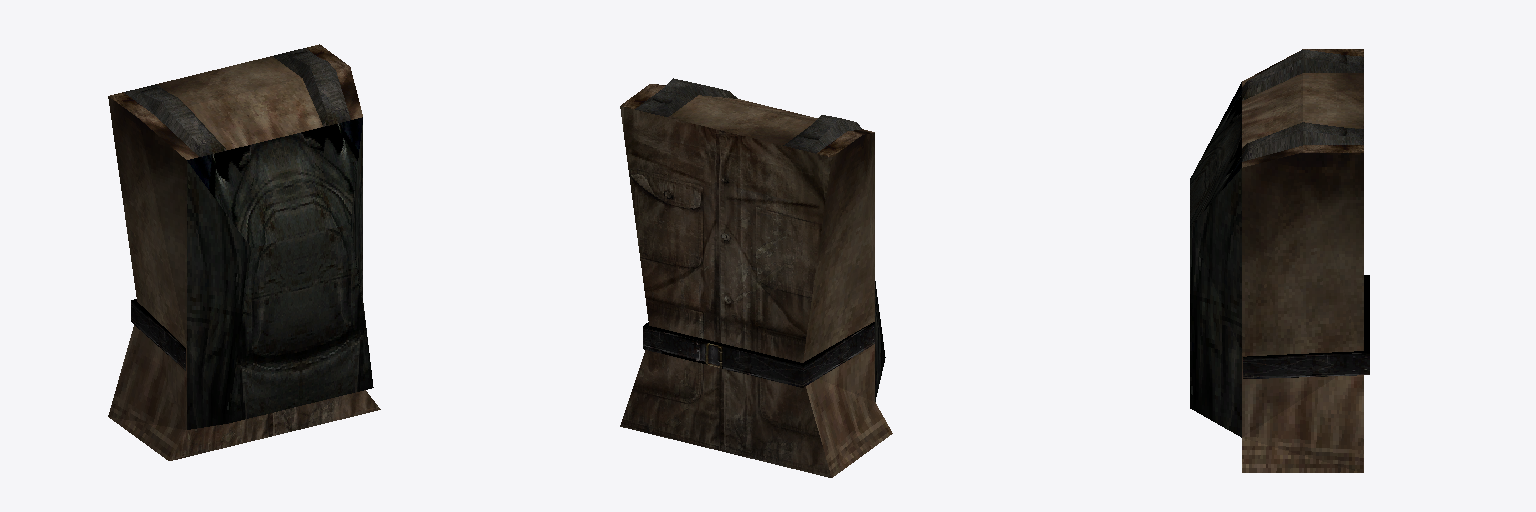
The picture shows the model from 3 angles: view 1: azimuth 30°, elevation 25°; view 2: azimuth 150°, elevation 25°; view 3: azimuth 270°, elevation 25°; orthographic projection.
Visible parts, largest first — view 1: arm_jacket_chest_Cube; view 2: arm_jacket_chest_Cube; view 3: arm_jacket_chest_Cube.
Boxes of the visible parts, <box> form: arm_jacket_chest_Cube: <box>108,44,380,460</box>; arm_jacket_chest_Cube: <box>620,78,892,477</box>; arm_jacket_chest_Cube: <box>1190,49,1369,472</box>.
Size of the model in its own units: 2 by 2.99 by 1.47.
Materials: 1 (1 with a texture image).